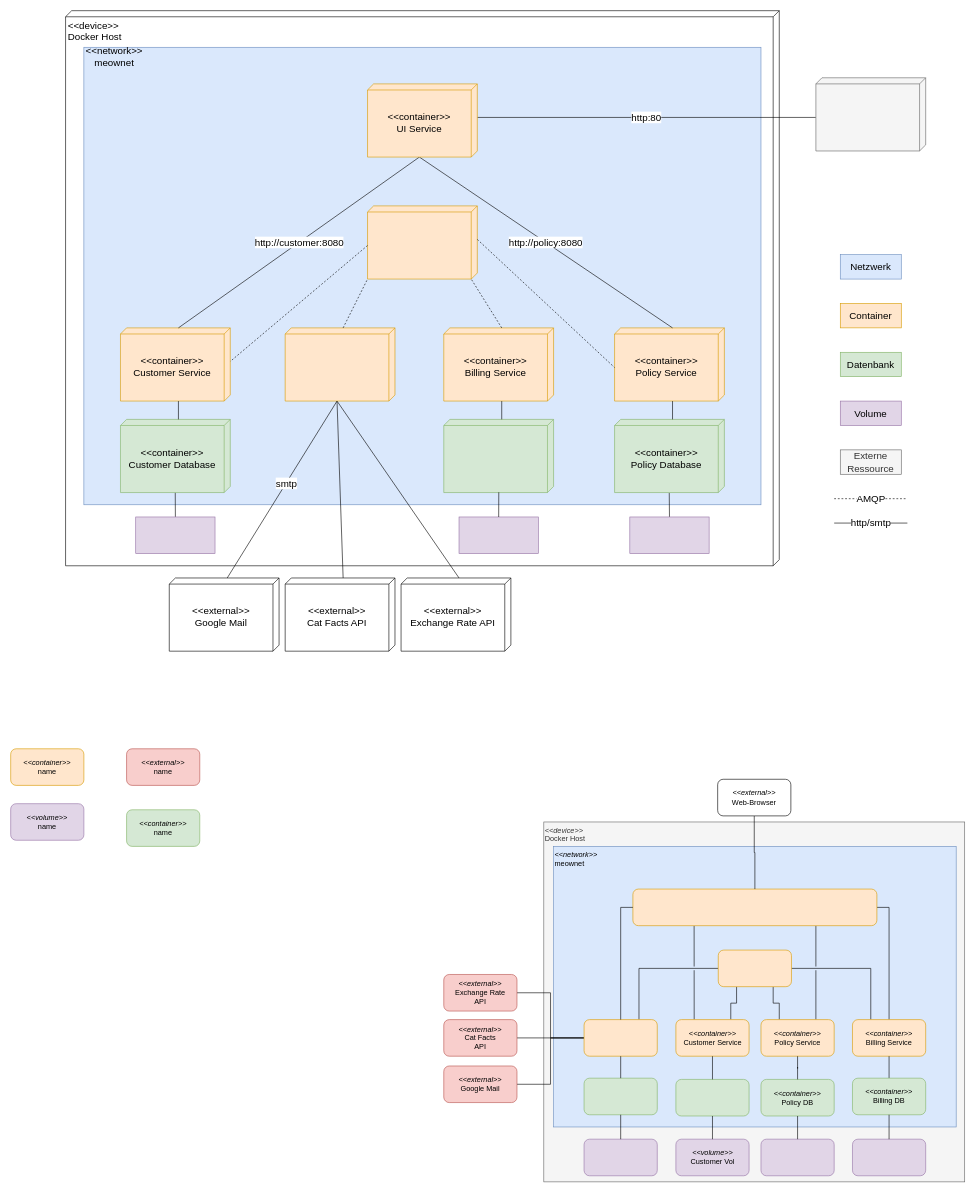
This 975x1193 diagram has some shape labels left out. The shapes that lost their labels are listed below. From the top down, each one's centre as x and y in pixels, then its label:
point 870,114: <<external>> Client Browser
point 422,242: <<container>> RabbitMQ Broker
point 340,364: <<container>> Notification Service
point 498,456: <<container>> Billing Database
point 175,535: <<volume>> customer_volume
point 498,535: <<volume>> billing_volume
point 669,535: <<volume>> policy_volume
point 754,907: <<container>> UI Service Ports: 80
point 754,968: <<container>> RabbitMQ Broker Ports: 15672
point 620,1037: <<container>> Notification Service Ports: 85
point 620,1096: <<container>> Notification DB
point 712,1097: <<container>> Customer DB
point 620,1157: <<volume>> Notification Vol
point 797,1157: <<volume>> Policy Vol
point 889,1157: <<volume>> Billing Vol
